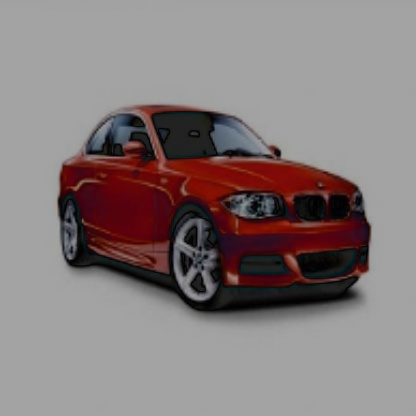Vehicle: (49, 87, 395, 355)
